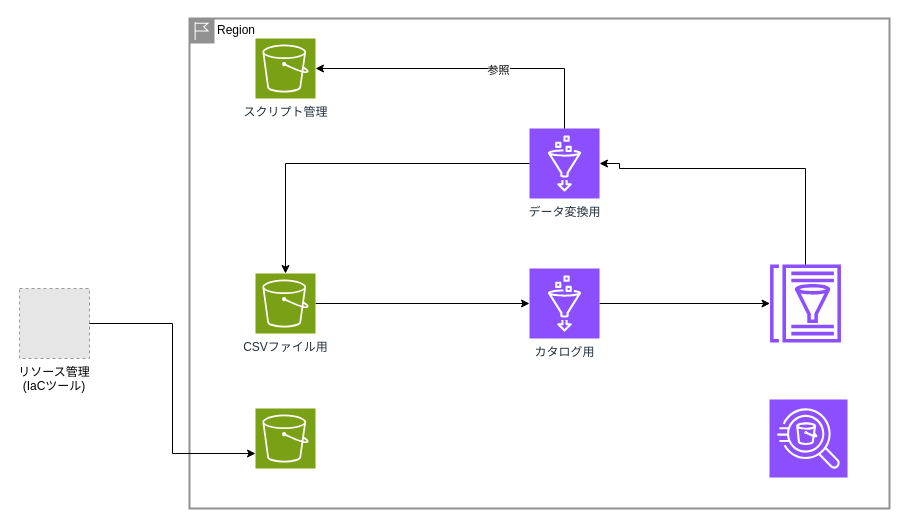
The diagram is 907 pixels wide and 526 high, and some of its shapes have lost their labels. Grey dashed boxes stand in for pictures. Each missing label, with the centre of its shape:
State管理: the point at 285,438
データカタログ: the point at 805,303
データ確認用(Athena): the point at 808,438
